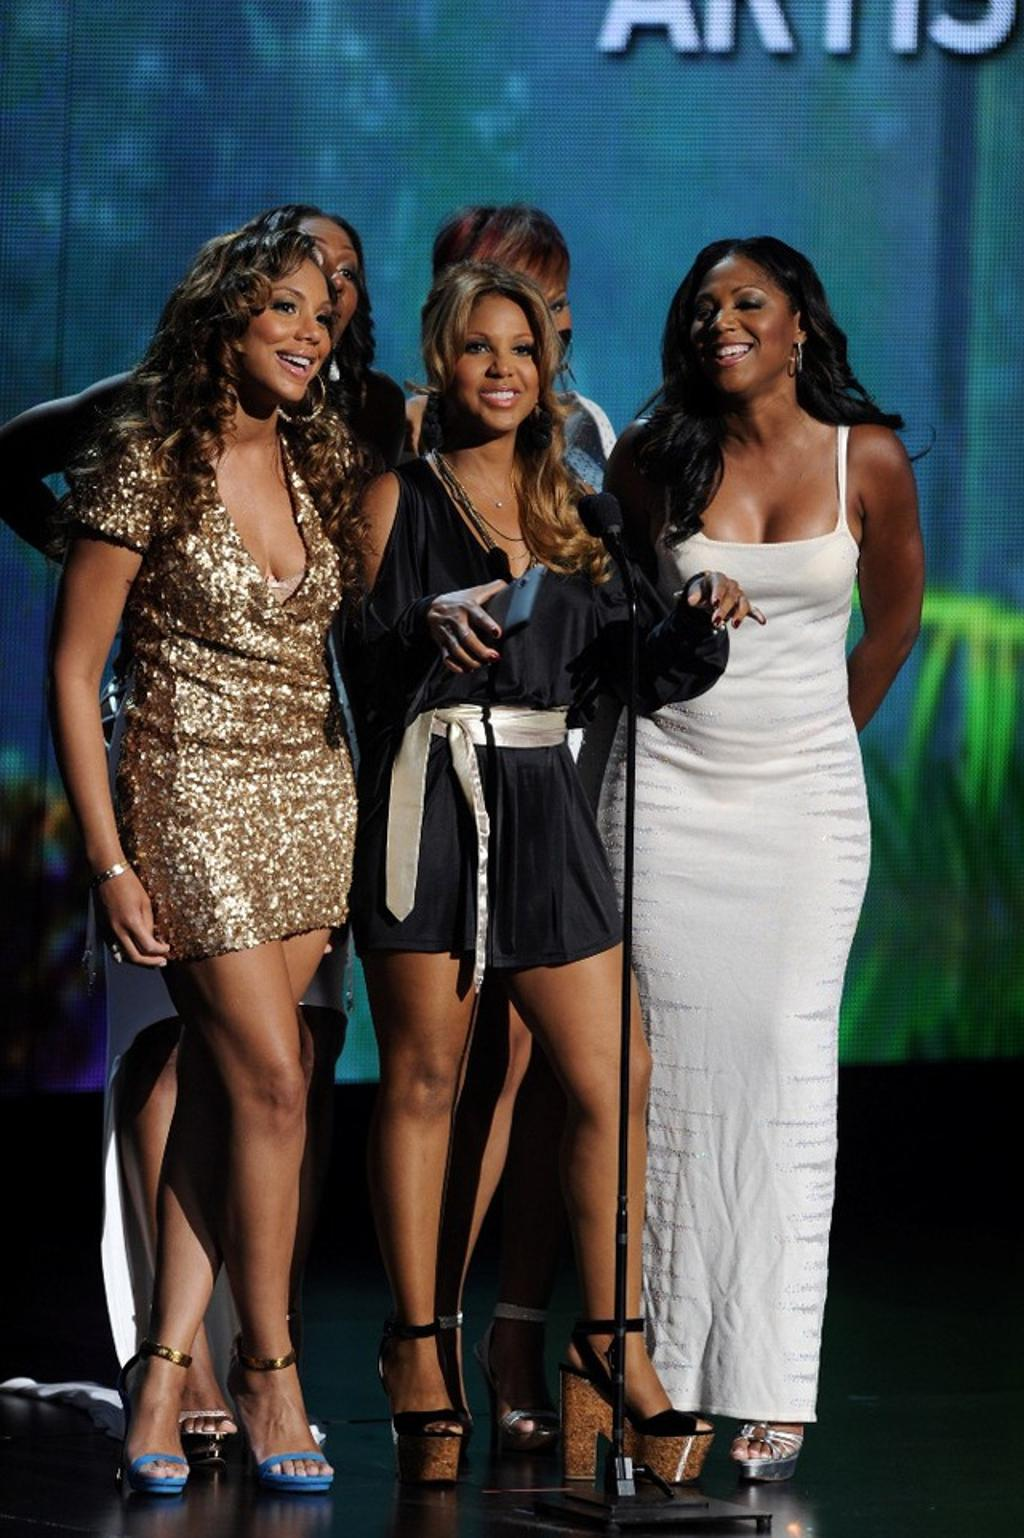face: (471, 216, 570, 375), (447, 276, 537, 426), (694, 246, 787, 390), (243, 255, 330, 405), (285, 216, 360, 348)
